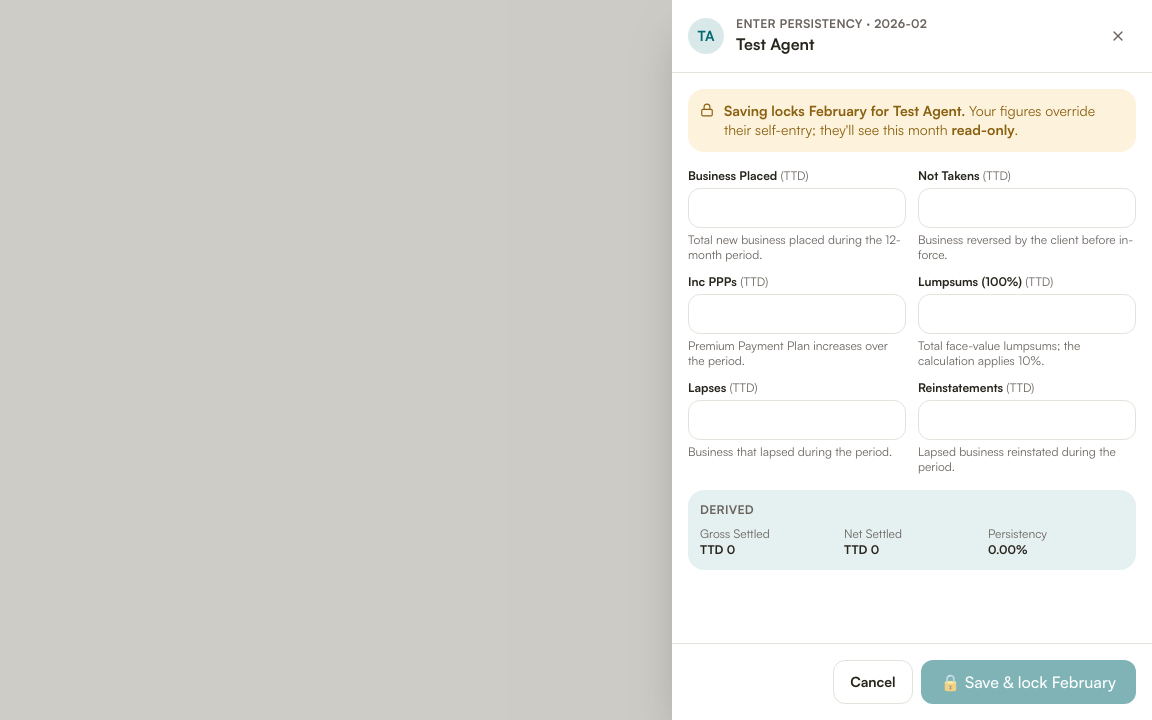
it: PersistencyEntryForm (manager) — "Meets 90% award gate" follows the printed preview › 90 → 90.00% → meets true
Type "100000" into the number field with test id "persistency-input-businessPlaced" at (797, 208), box left=688, top=188, right=906, bottom=228
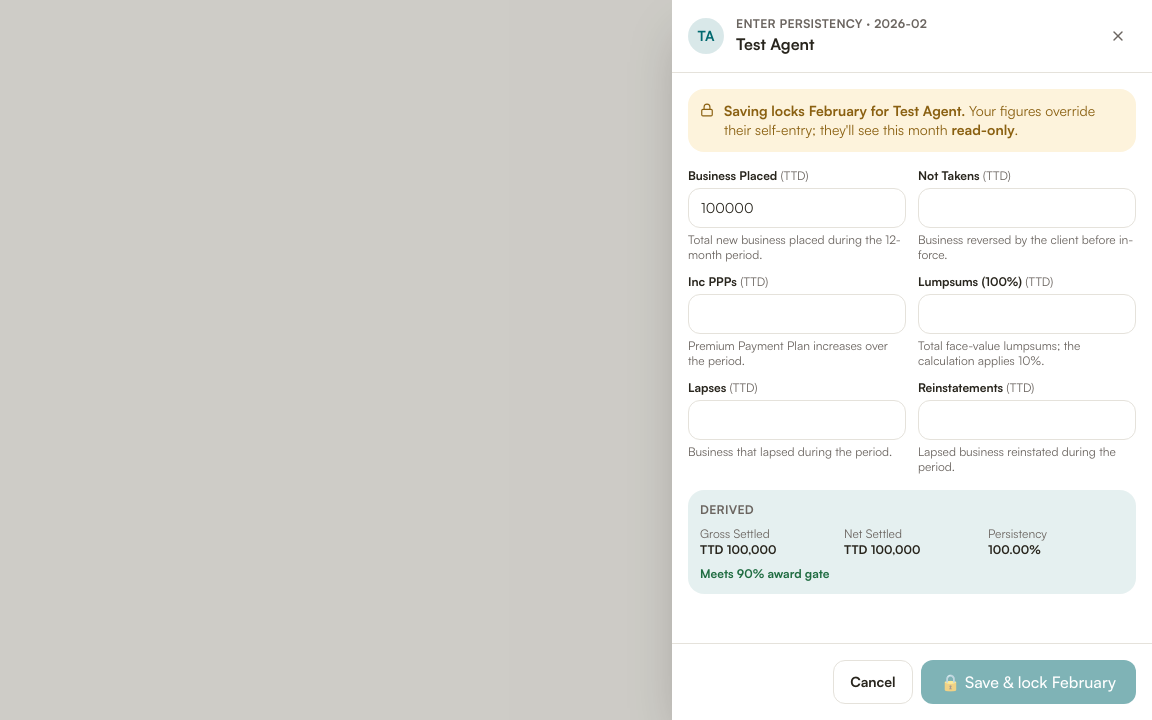
Type "10000" into the number field with test id "persistency-input-lapses" at (797, 420), box left=688, top=400, right=906, bottom=440
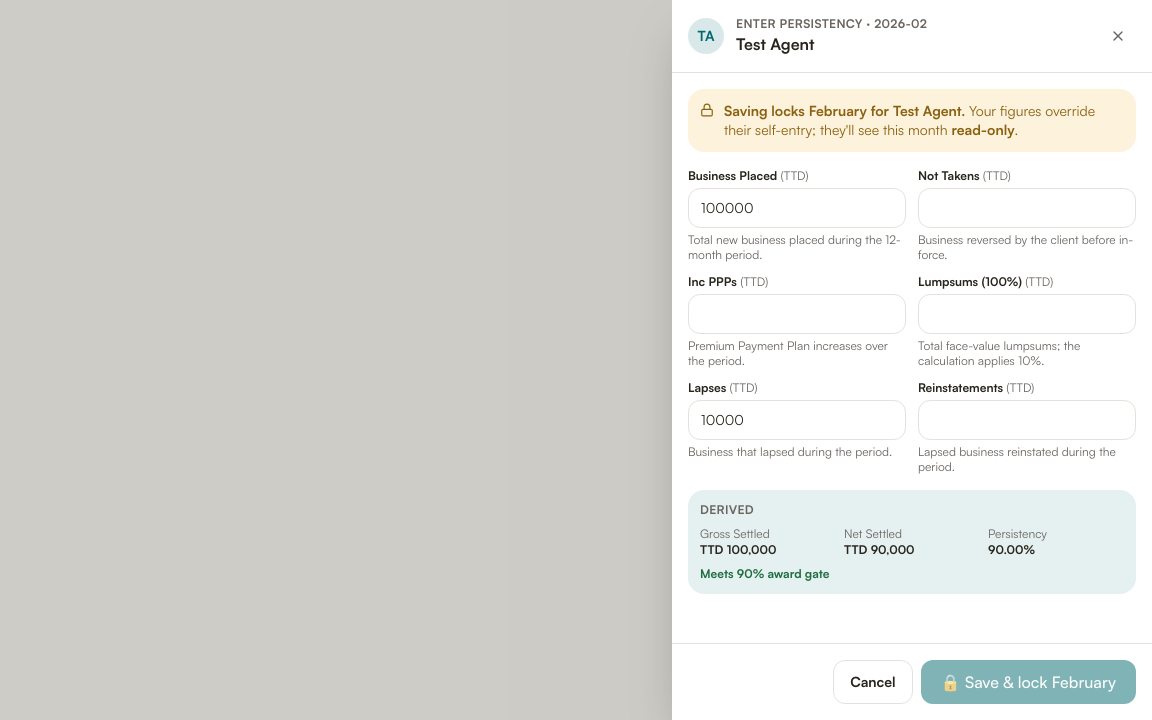
Result: the text "Meets 90% award gate" is shown at left=700, top=566, right=829, bottom=580
Result: the text with test id "derived-persistency" reads "90.00%" at left=988, top=542, right=1035, bottom=556
